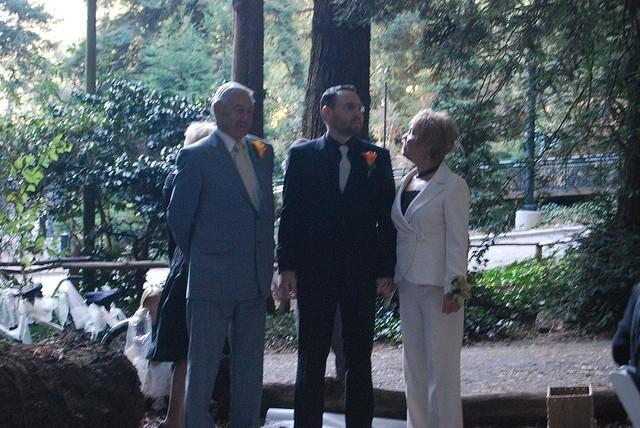bicycle: (0, 276, 128, 354)
